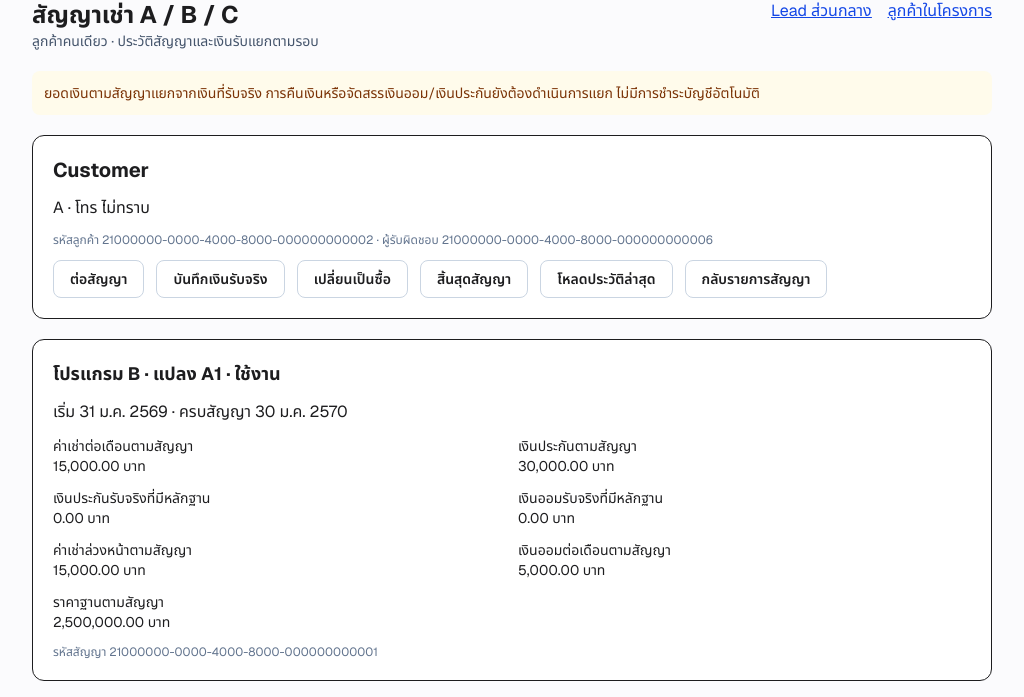
it: canonical rental workspace › blocks resend after saved receipt cannot be cleared
Expected: the heading "Customer" is shown, x1=53 y1=157 x2=149 y2=183
Click the button "ต่อสัญญา" at [99, 279], box x1=53 y1=260 x2=144 y2=298
(page scrolled)
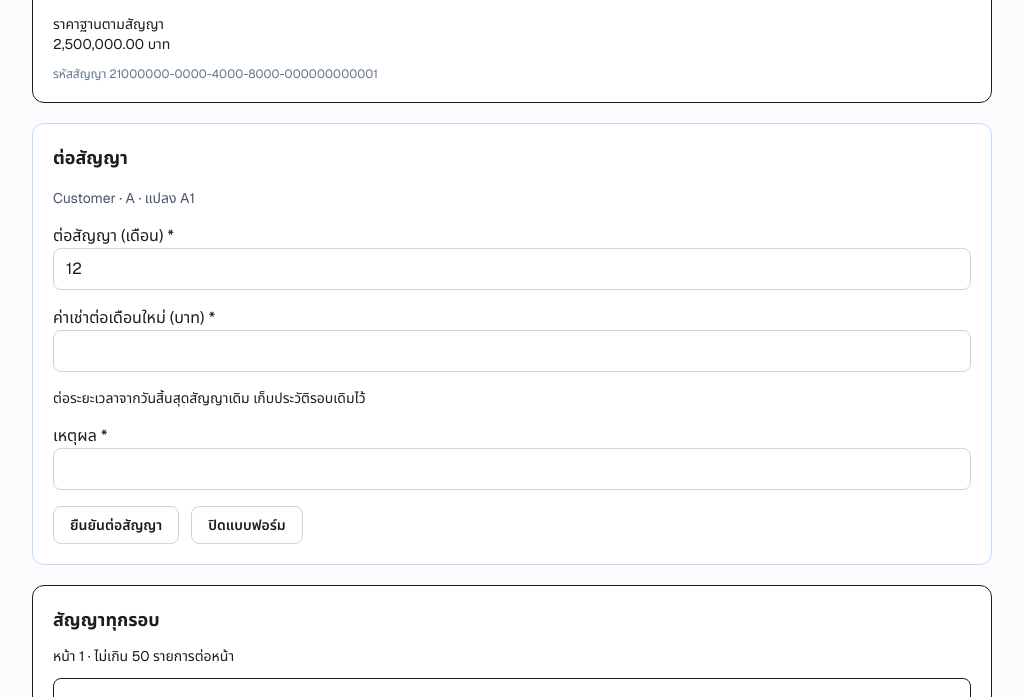
Type "16000" into the field labelled "ค่าเช่าต่อเดือนใหม่ (บาท) *" at [512, 351], box x1=53 y1=330 x2=971 y2=372
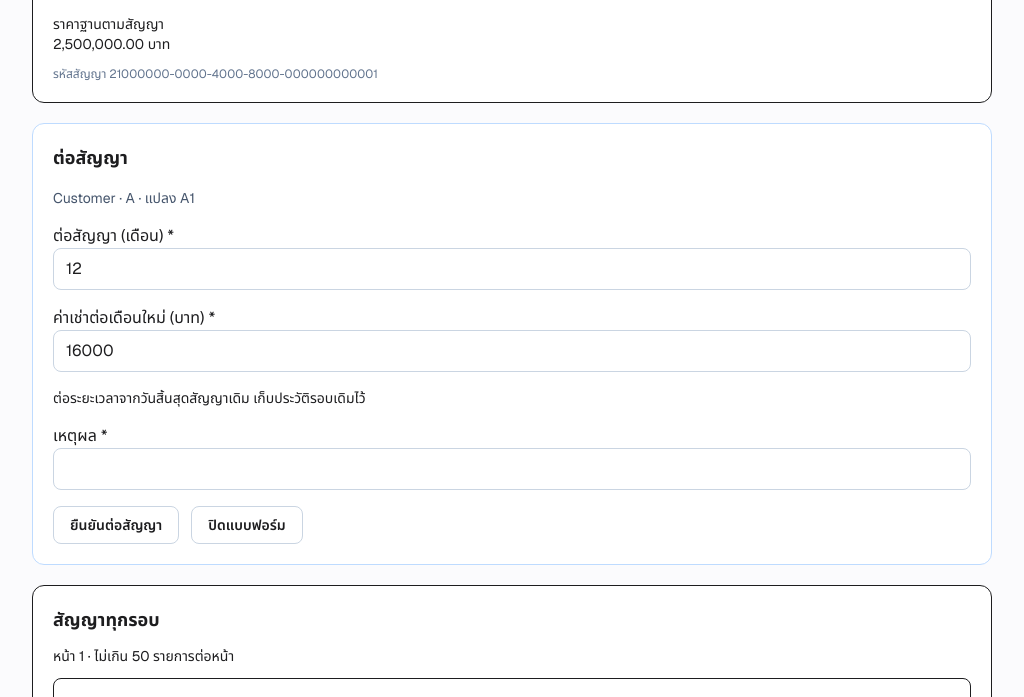
Type "ต่อแล้ว" into the field labelled "เหตุผล *" at [512, 469], box x1=53 y1=448 x2=971 y2=490
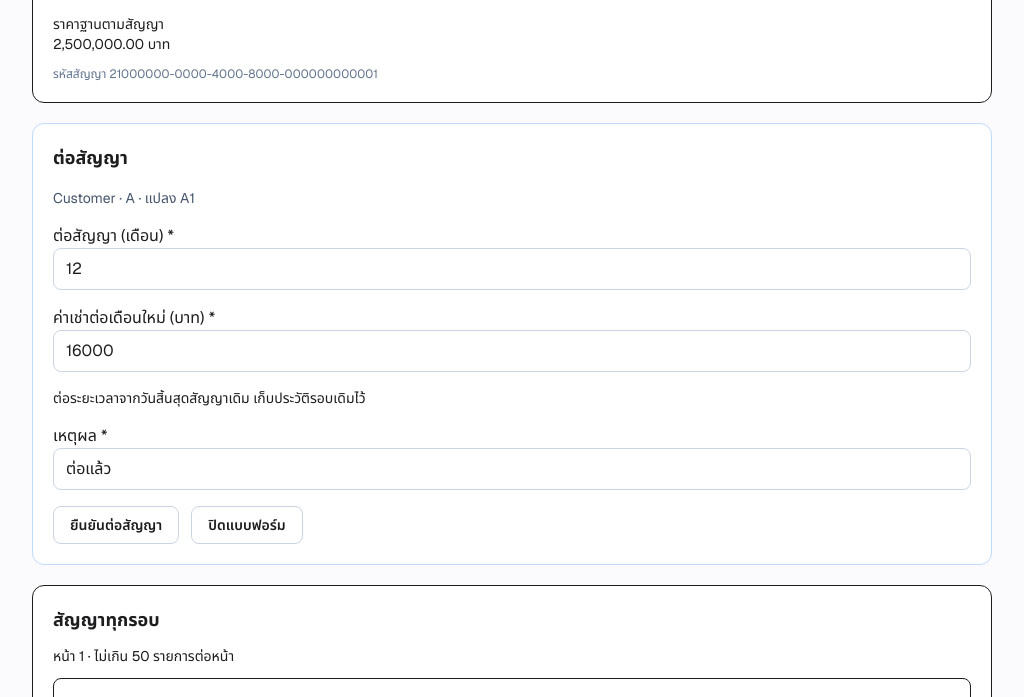
Submit the form named "บันทึกสัญญาเช่า", box x1=32 y1=123 x2=992 y2=565
(page scrolled)
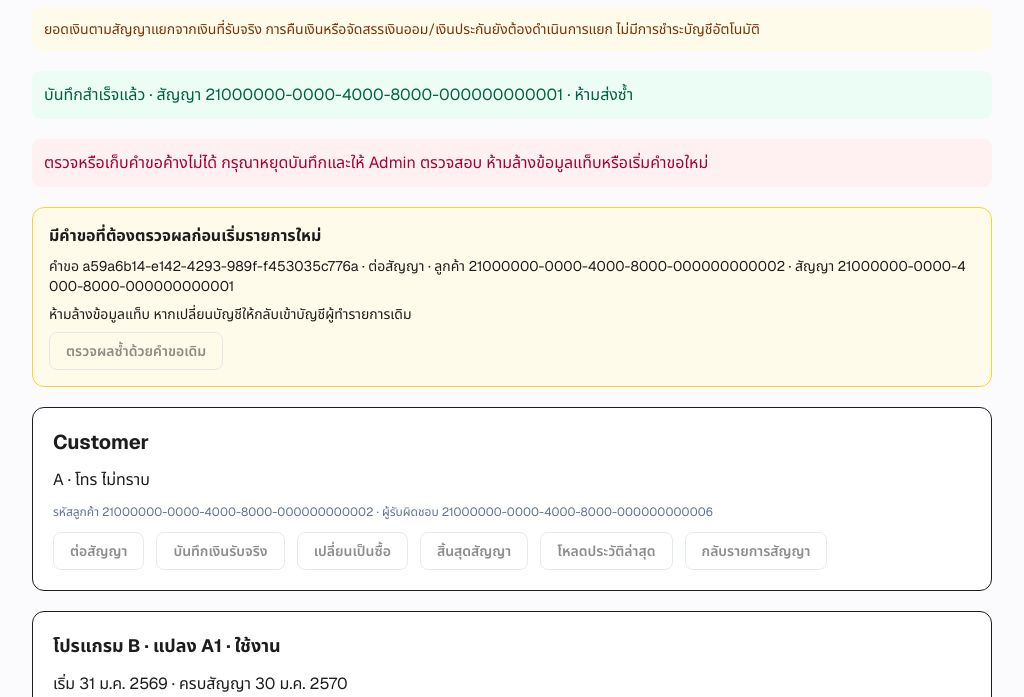
Expected: the text "บันทึกสำเร็จแล้ว · สัญญา 21000000-0000-4000-8000-000000000001 · ห้ามส่งซ้ำ" is shown, x1=32 y1=71 x2=992 y2=119
Expected: the button "ตรวจผลซ้ำด้วยคำขอเดิม" is disabled, x1=49 y1=332 x2=223 y2=370
